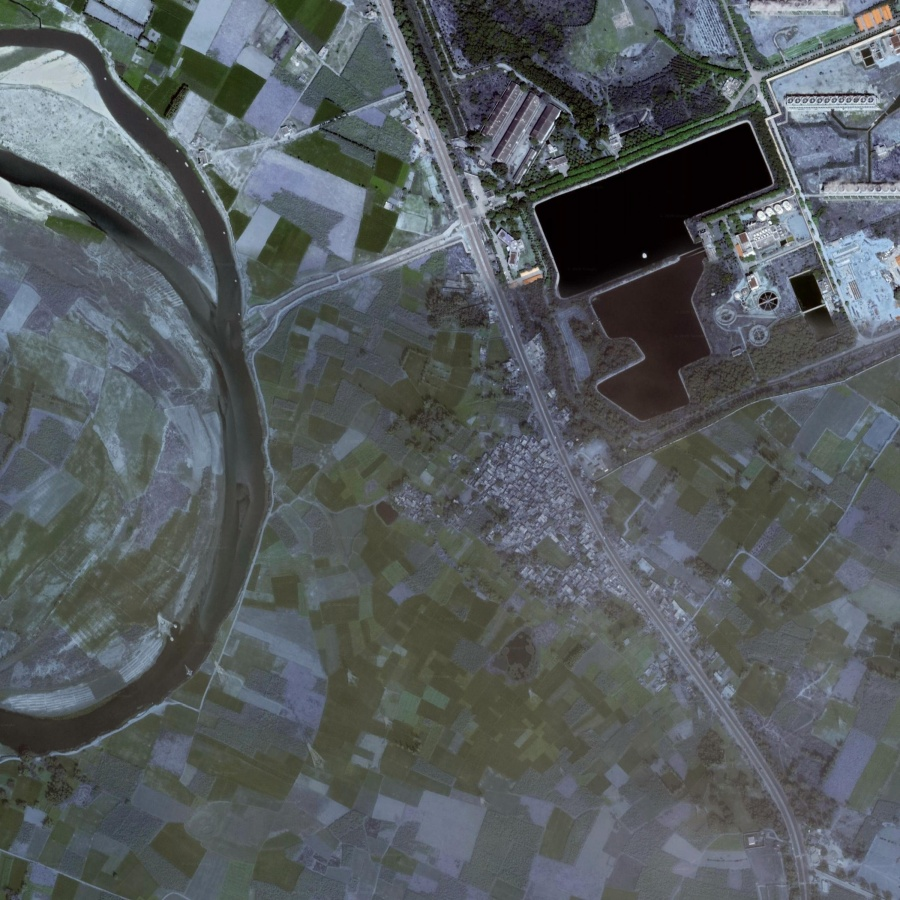PowerPlant: (514, 113, 784, 341)
